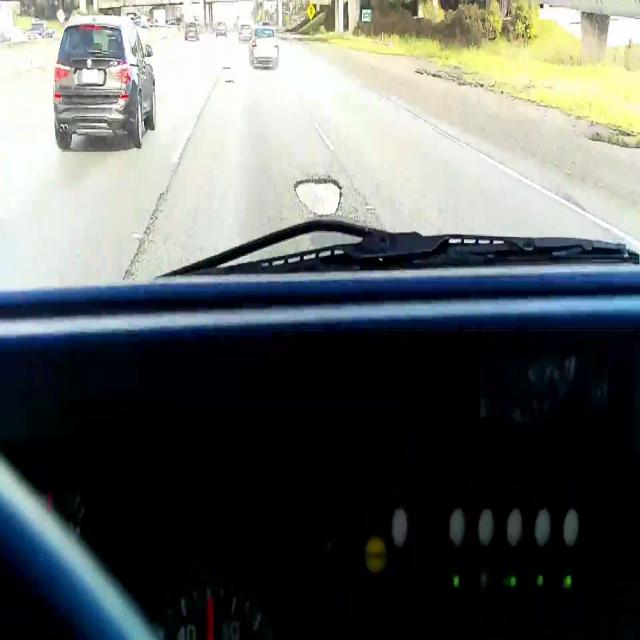Pothole: (292, 178, 344, 218), (223, 79, 234, 84), (223, 66, 231, 70)
